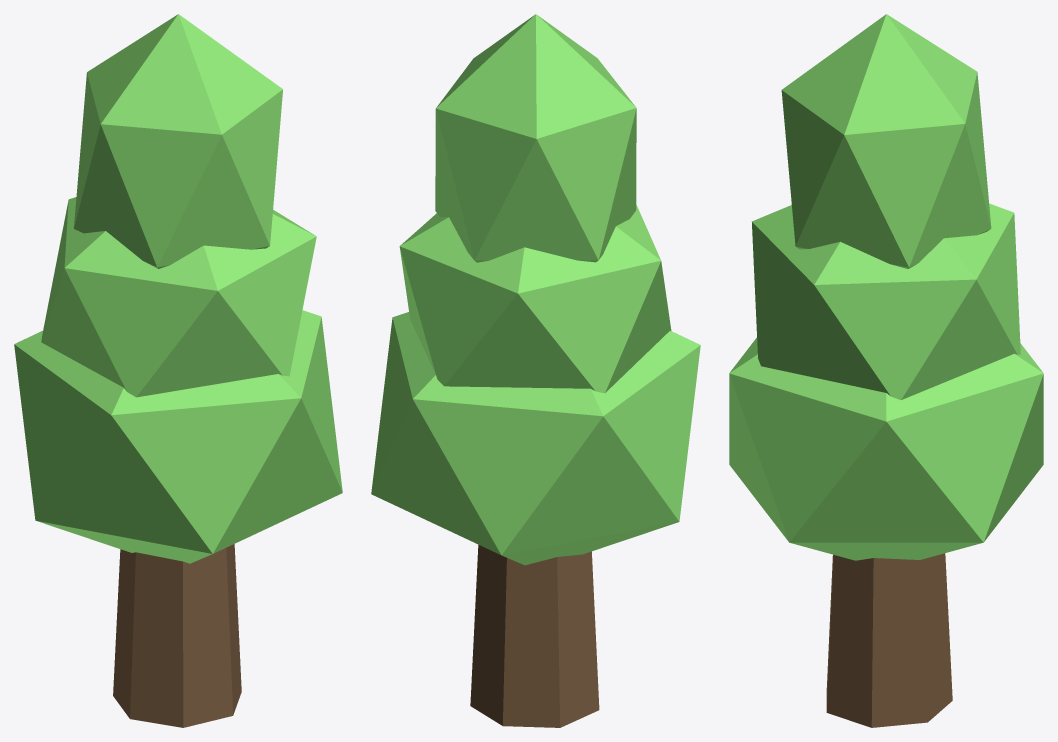
Rendered from tree1.fbx.
3 renders of one model, left to right at view 1: azimuth 30°, elevation 25°; view 2: azimuth 150°, elevation 25°; view 3: azimuth 270°, elevation 25°, orthographic.
Parts seen in each view (by area): view 1: tree1; view 2: tree1; view 3: tree1.
Boxes of the visible parts, x1,y1,x2,y2 form: tree1: [14, 14, 342, 727]; tree1: [371, 14, 700, 727]; tree1: [729, 14, 1043, 727].
Size of the model in its own units: 236 by 541 by 225.
